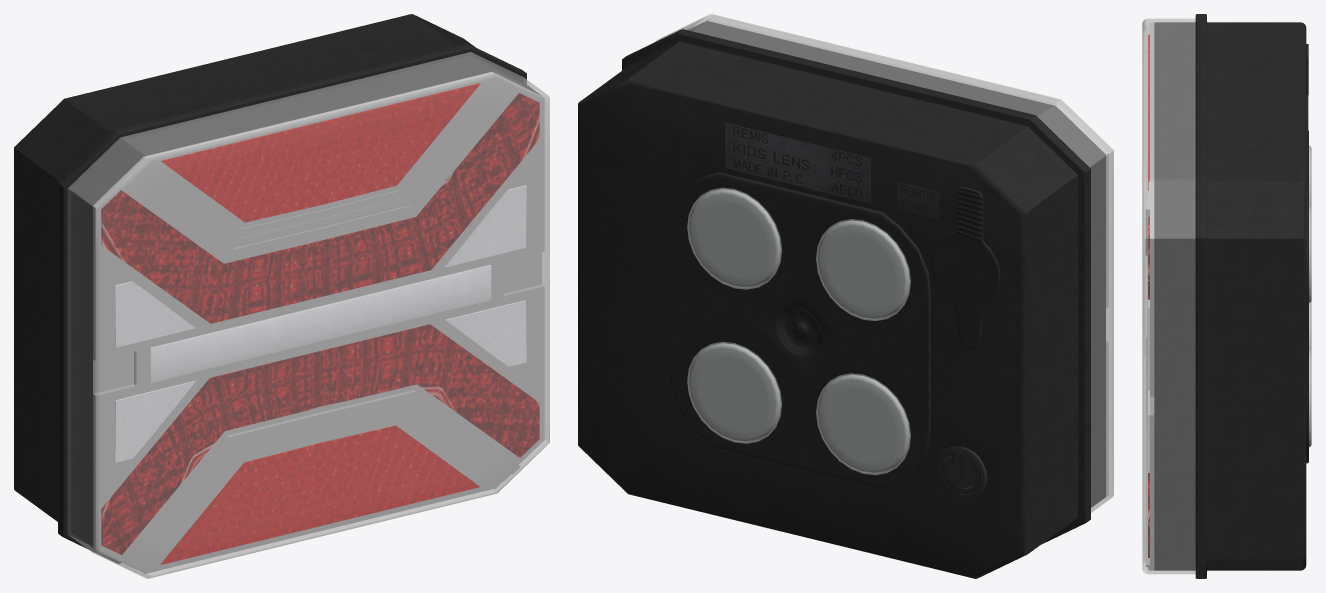
Rendered from remolux-light.glb.
3 views of the same model, side by side, from view 1: azimuth 30°, elevation 25°; view 2: azimuth 150°, elevation 25°; view 3: azimuth 270°, elevation 25° (orthographic). The views are drawn at different scales.
Visible parts, largest first — view 1: SM_Light; view 2: SM_Light; view 3: SM_Light.
Boxes of the visible parts, box(x1,y1,x2,y2) form: SM_Light: box(14, 14, 549, 578); SM_Light: box(578, 14, 1113, 578); SM_Light: box(1142, 14, 1311, 578).
Size of the model in its own units: 0.9238 by 0.8199 by 0.3122.
2 materials, 1 textured.
